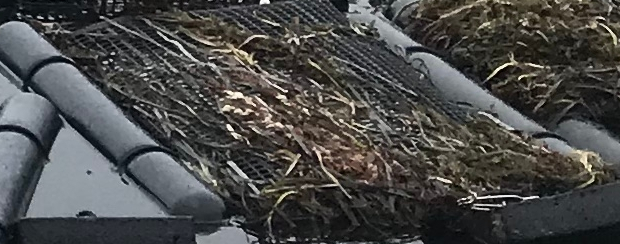bag: (3, 4, 596, 216)
